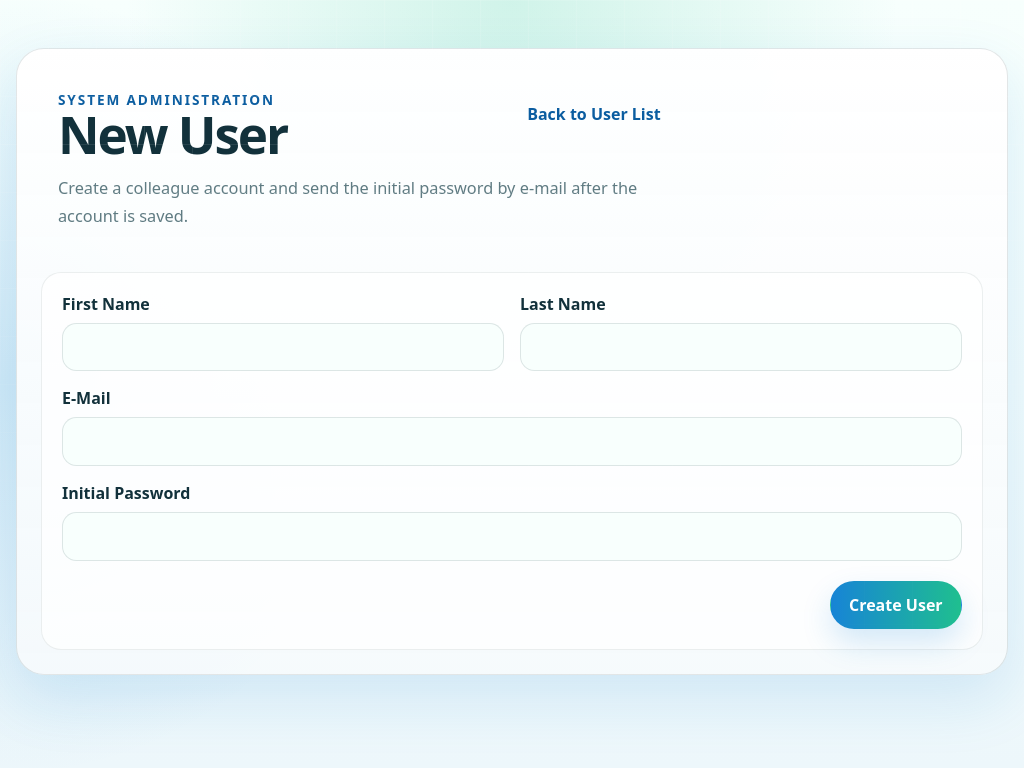
Test: NewUserPage › shows a success confirmation and resets the form after create
Expected: the button "Create User" is shown, [830,581,962,629]
Type "Cora" into the field labelled "First Name".
click(283, 347); type("Cora")  # box [62,322,504,371]
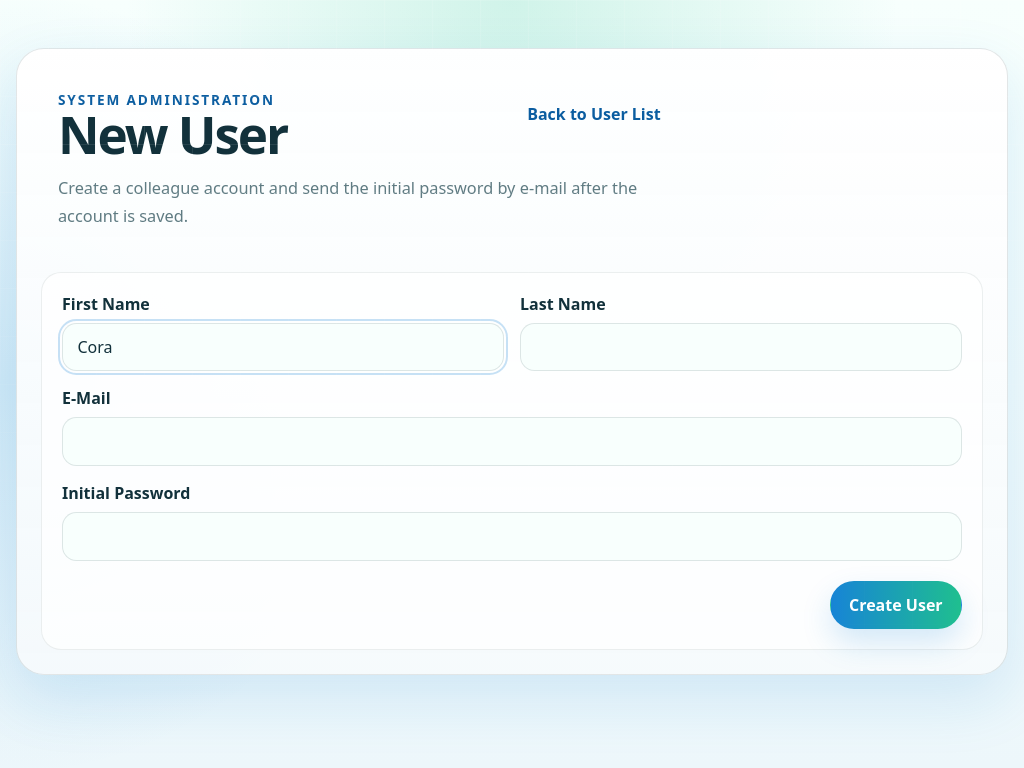
Type "Colleague" into the field labelled "Last Name".
click(741, 347); type("Colleague")  # box [520,322,962,371]
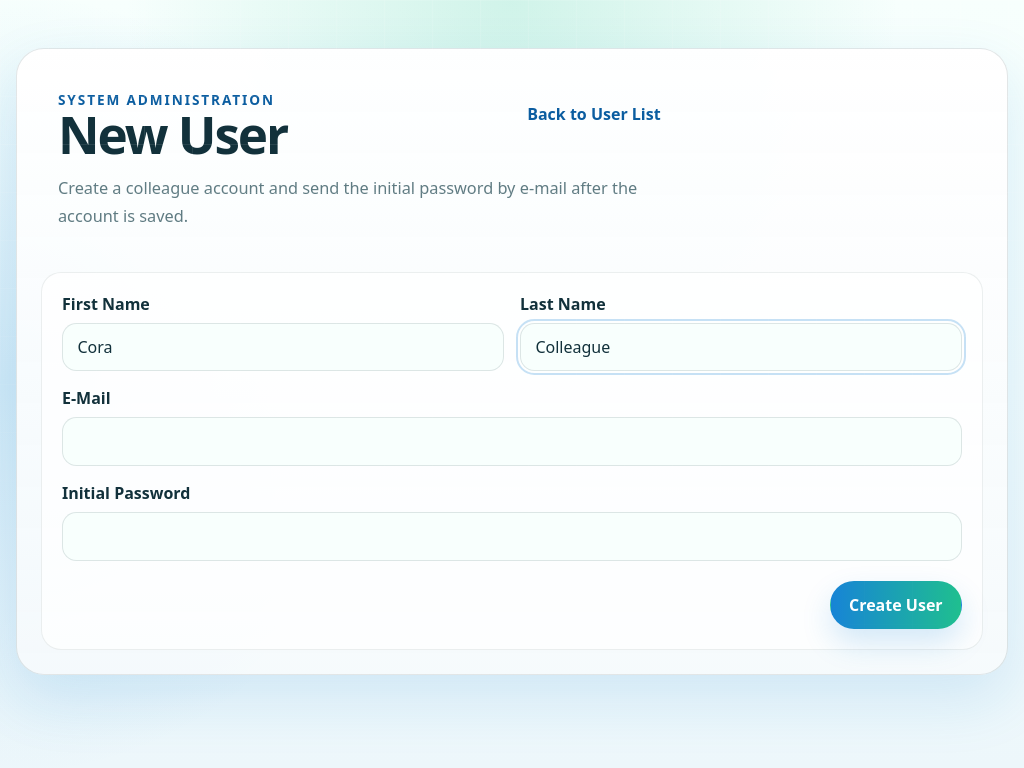
Type "colleague@example.com" into the field labelled "E-Mail".
click(512, 442); type("colleague@example.com")  # box [62,418,962,466]
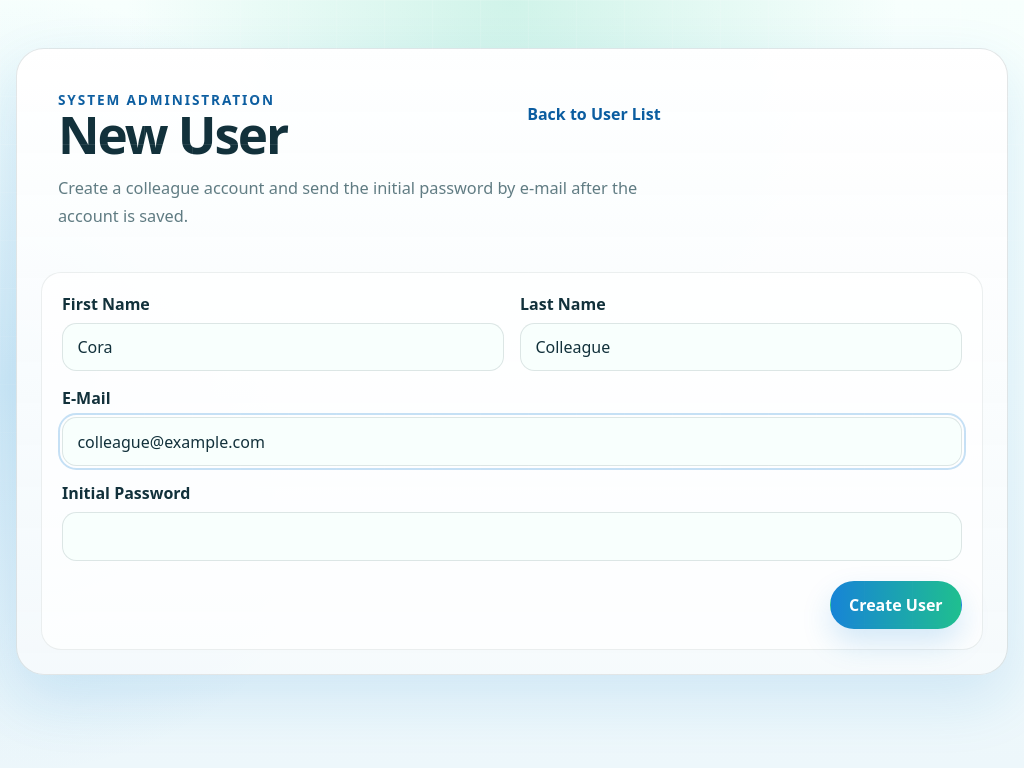
Type "Start123!" into the password field labelled "Initial Password".
click(512, 537); type("Start123!")  # box [62,512,962,561]
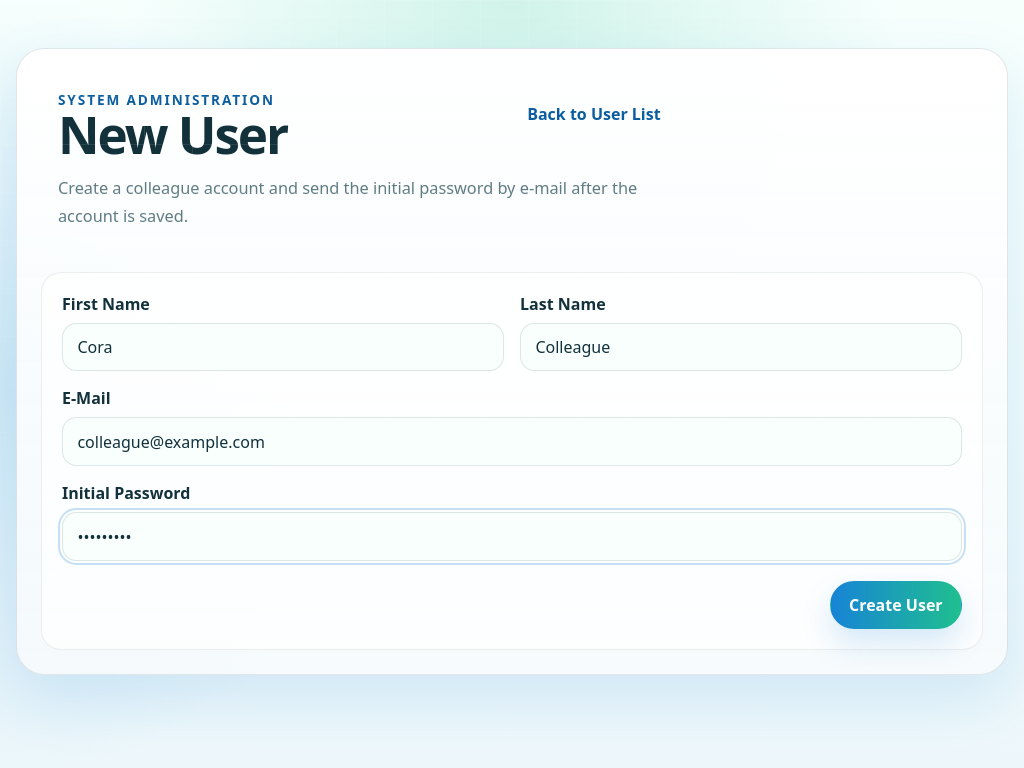
Click the button "Create User".
click(896, 605)  # box [830,581,962,629]
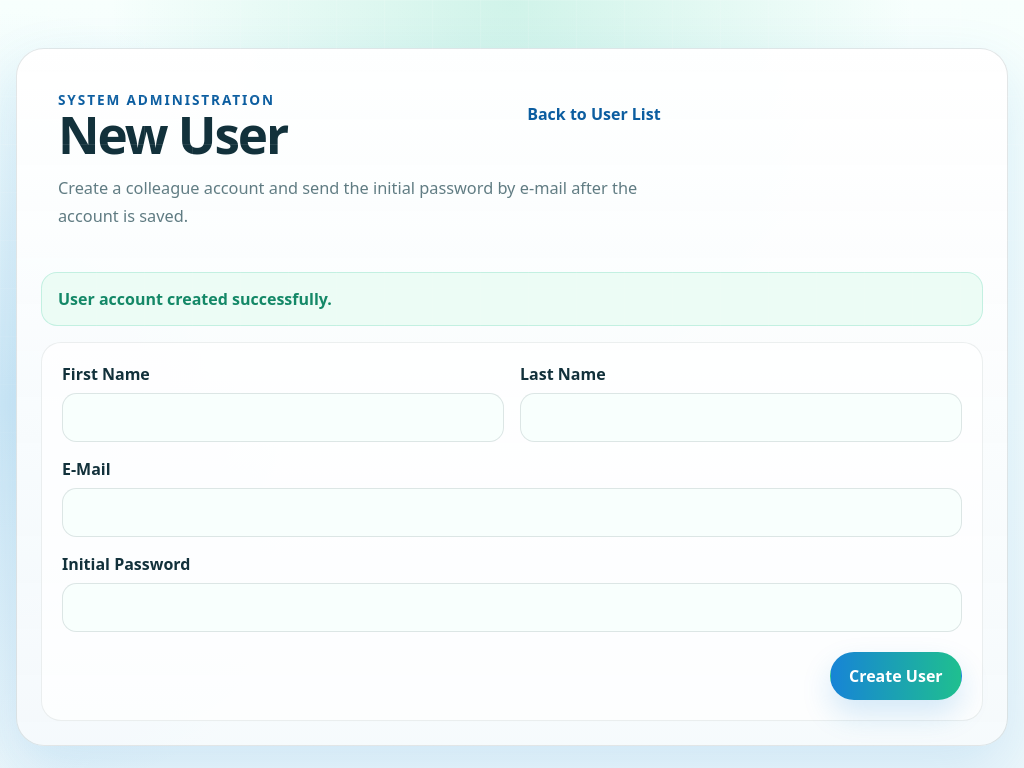
Now the message shows "created successfully", box [58,288,332,310]
Now the field labelled "First Name" is empty, box [62,393,504,442]
Now the field labelled "E-Mail" is empty, box [62,488,962,537]
